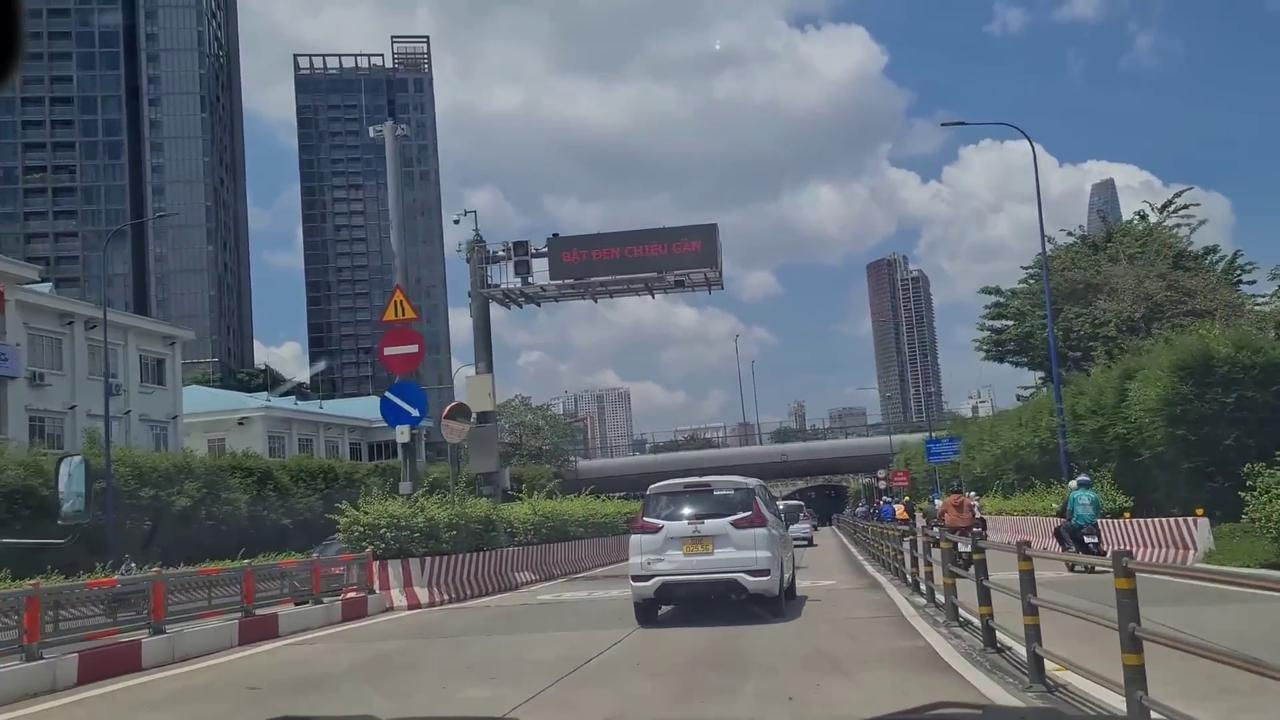Cấm đi ngược chiều: (378, 326, 427, 376)
Hướng phải đi vòng sang phải: (379, 379, 429, 430)
Đuờng hẹp: (376, 281, 422, 324)
